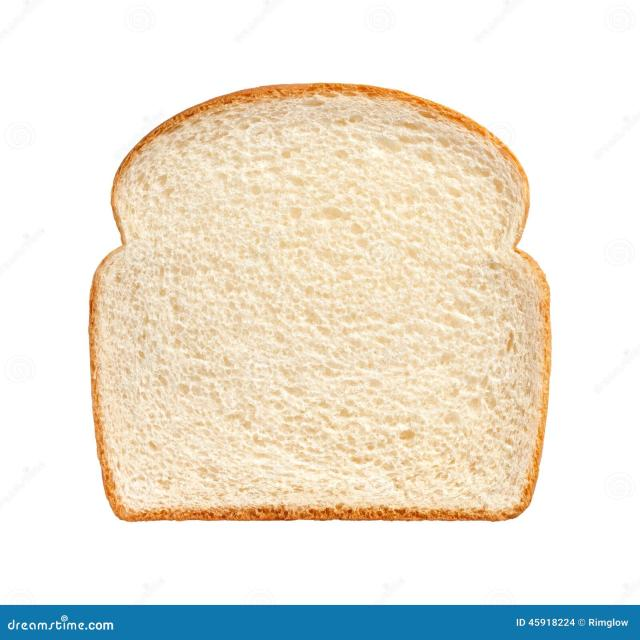Bread: (90, 84, 549, 520)
